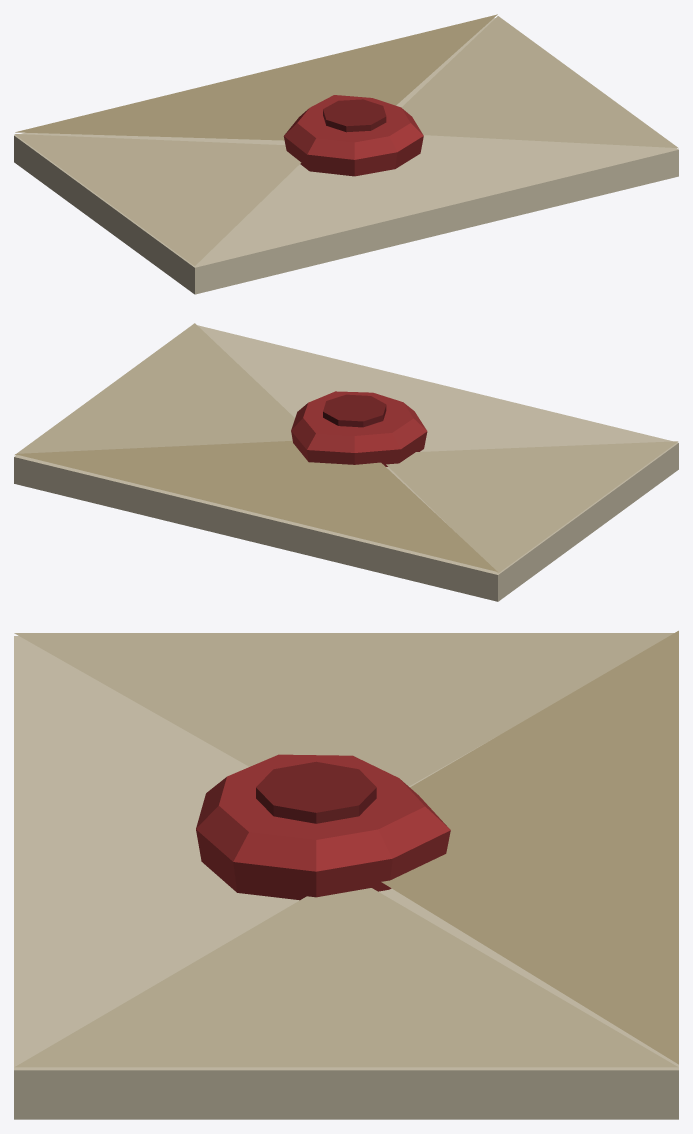
Rendered from quest_letter.glb.
3 renders of one model, top to bottom at view 1: azimuth 30°, elevation 25°; view 2: azimuth 150°, elevation 25°; view 3: azimuth 270°, elevation 25°, orthographic. The views are drawn at different scales.
Parts seen in each view (by area): view 1: quest_letter; view 2: quest_letter; view 3: quest_letter.
Part boxes in pixels (left/top/right/bottom): quest_letter: left=14, top=14, right=678, bottom=294; quest_letter: left=14, top=323, right=678, bottom=601; quest_letter: left=14, top=630, right=678, bottom=1119.
Size of the model in its own units: 0.34 by 0.042 by 0.22.
